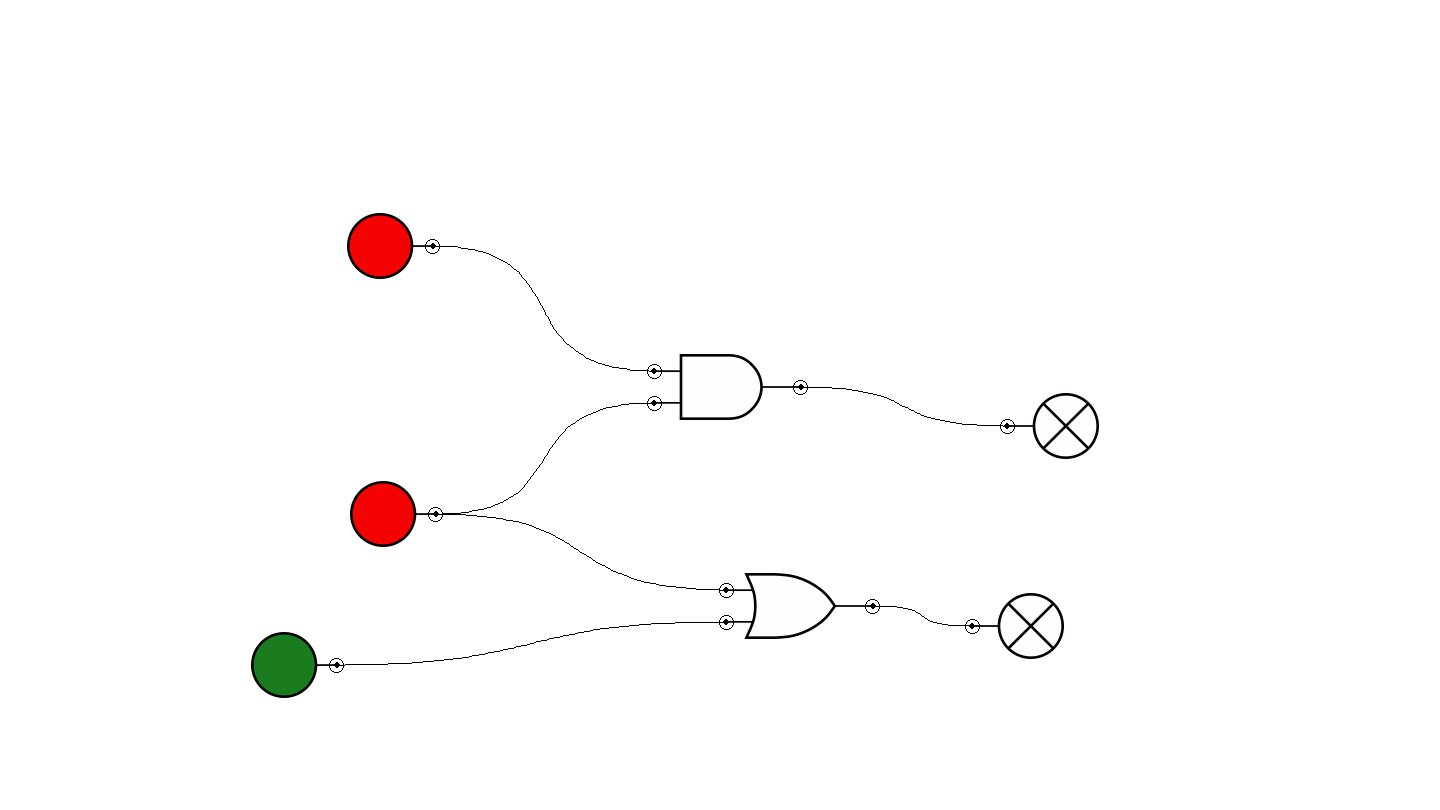and: (647, 354, 808, 420)
bulb: (965, 593, 1064, 659), (1000, 393, 1099, 459)
or: (719, 573, 880, 639)
switch_False: (347, 213, 440, 279), (350, 481, 443, 547)
switch_True: (251, 632, 344, 698)
